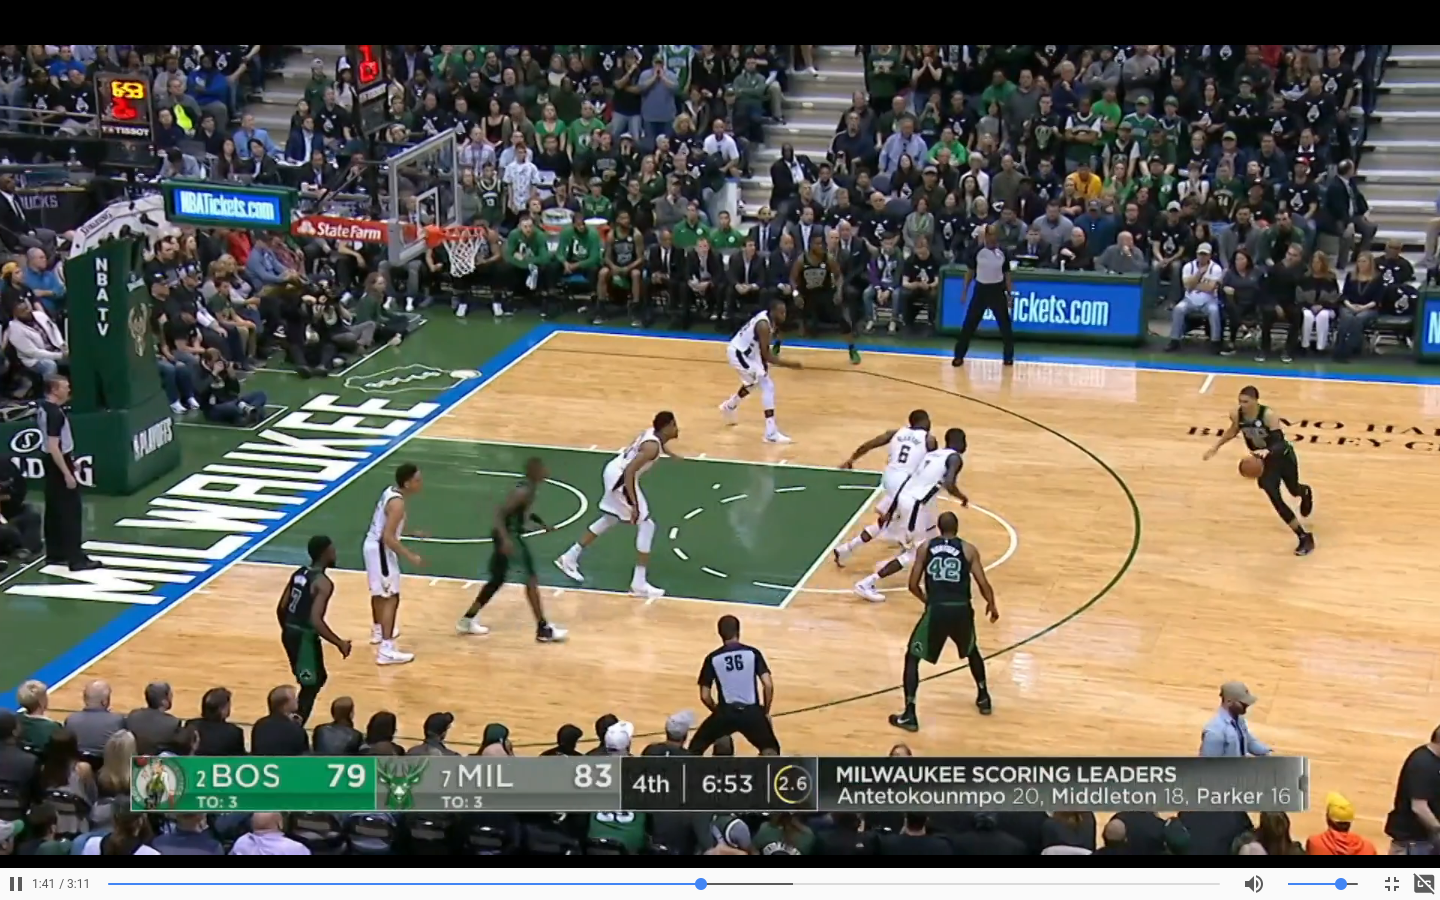basketball: (1230, 448, 1273, 482)
basketball player: (888, 502, 1007, 736), (552, 403, 687, 605), (1196, 380, 1328, 562), (467, 446, 572, 652), (862, 423, 975, 594), (838, 399, 947, 563), (268, 536, 359, 711), (359, 456, 425, 672), (713, 300, 799, 456), (772, 231, 865, 365)
referee: (687, 611, 792, 752), (947, 225, 1021, 371)
